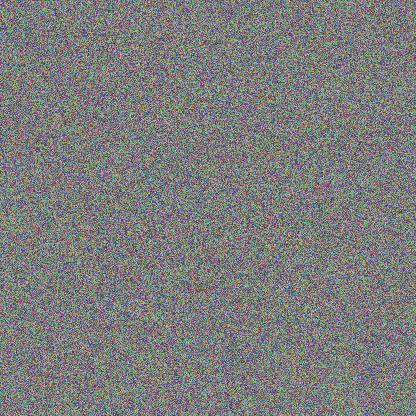empty: (138, 297, 185, 364)
